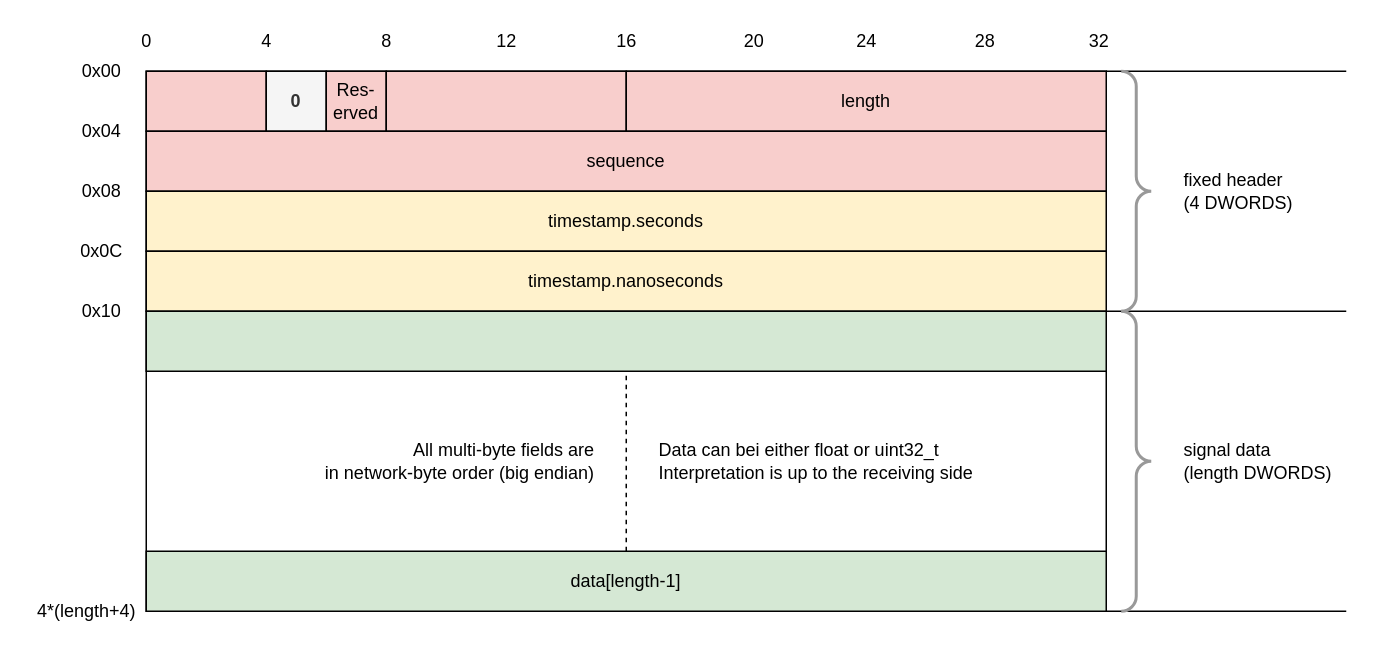
This 1374x651 diagram has some shape labels left out. The shapes that lost their labels are listed below. From the top down, each one's centre as x and y in pixels, then its label:
At point (205, 100): "version: 1".
At point (505, 100): "node_id".
At point (625, 340): "data[0]".
